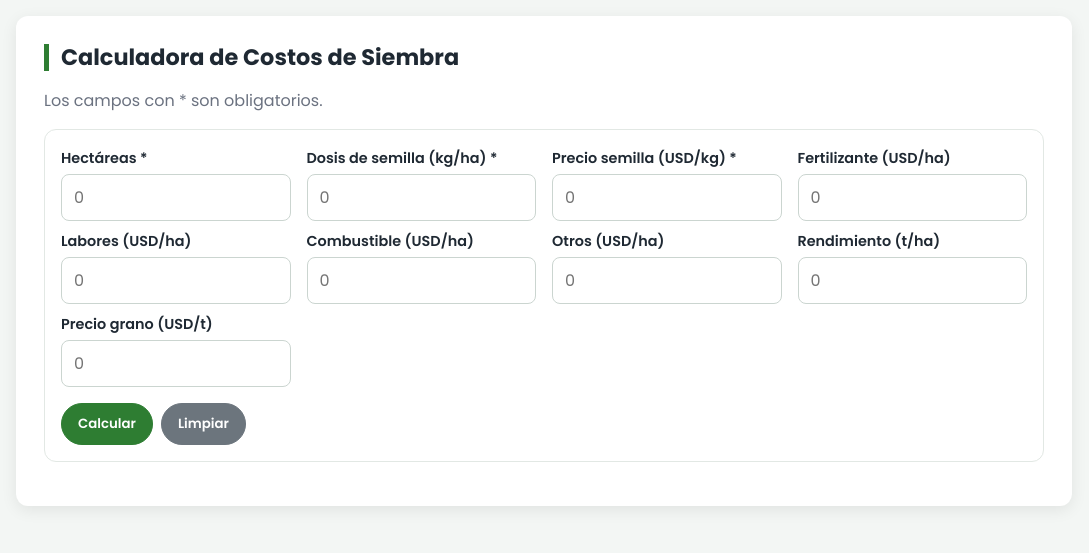
Scenario: Calculadora de costos › al calcular sin datos avisa con alert y marca los campos obligatorios
Click the button "Calcular" at point(107, 424), box [61,404,153,446]
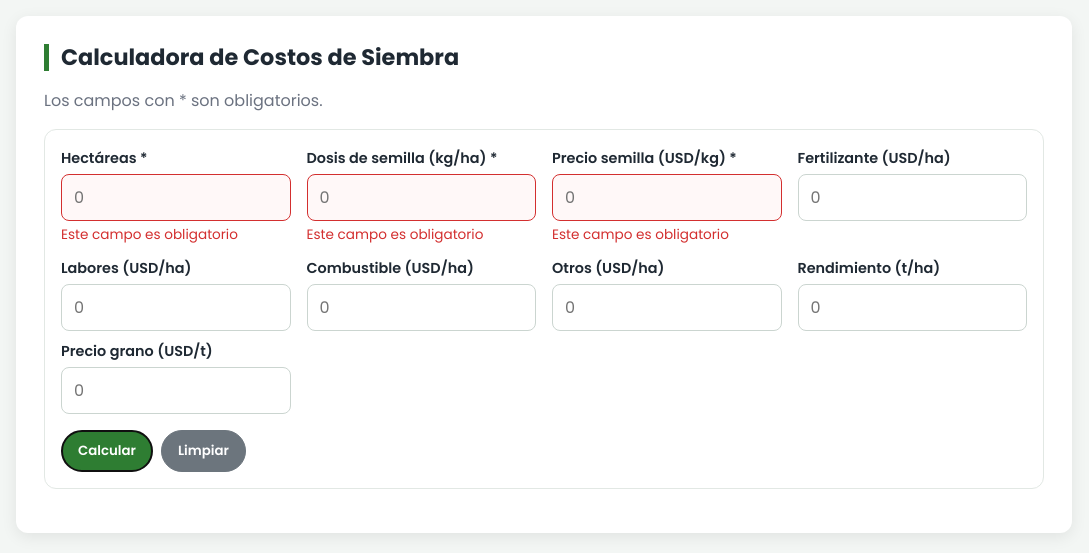
Result: the text "Este campo es obligatorio" is shown 3 times at [61,226,238,244]; [306,226,483,244]; [552,226,729,244]
